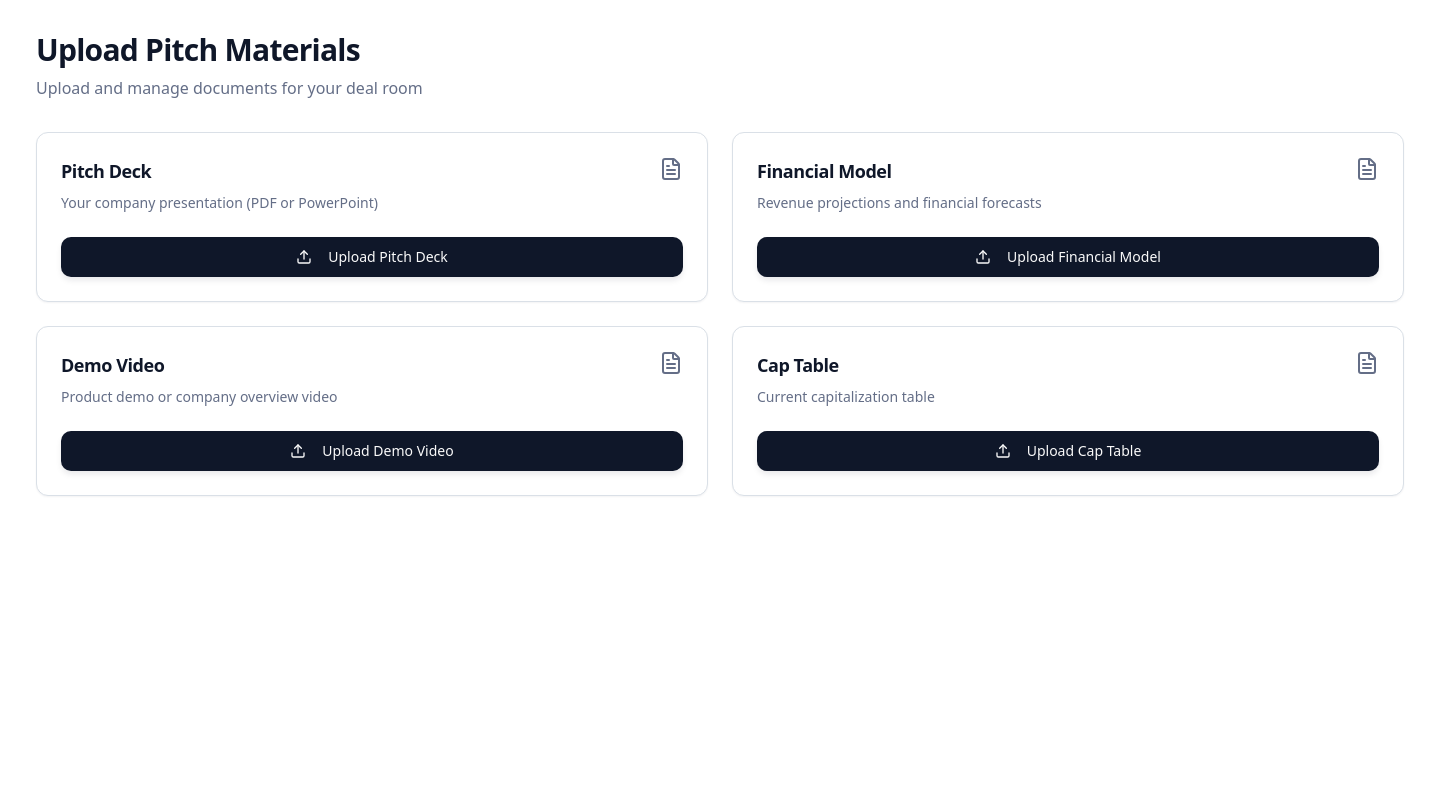
US-FOUNDER-005: Upload Pitch Deck and Documents › Upload Documents › should allow selecting file for upload
Click the button "Upload Pitch Deck": (372, 257) [61, 237, 683, 277]
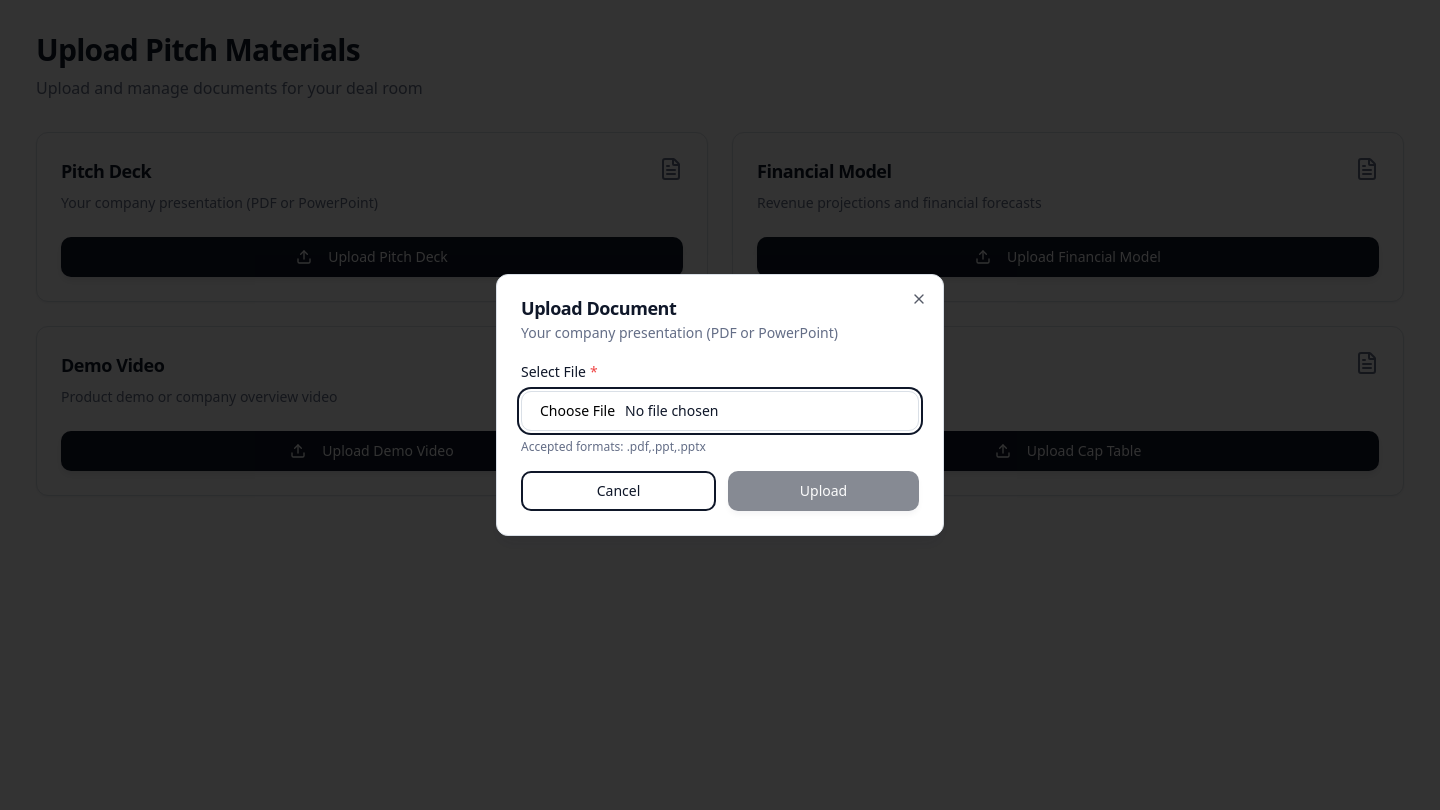
Expected: the file field labelled "Select File*" is shown, [521, 391, 919, 431]
